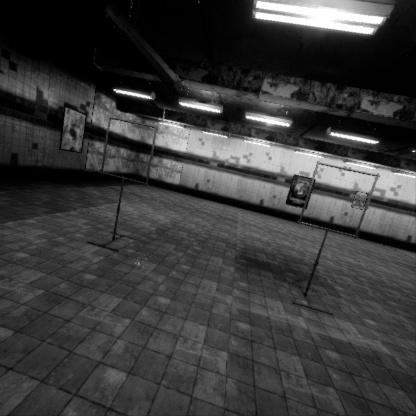gate: (298, 176, 386, 255), (101, 229, 162, 300)
